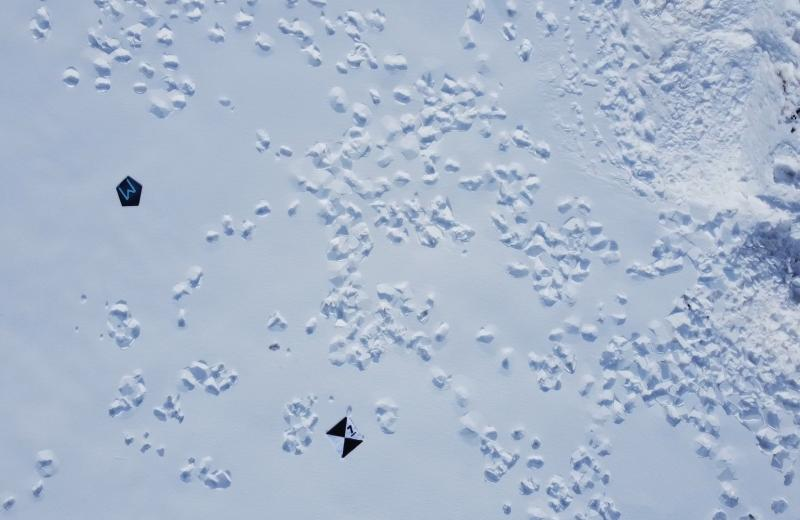Pentagon: (108, 168, 144, 212)
